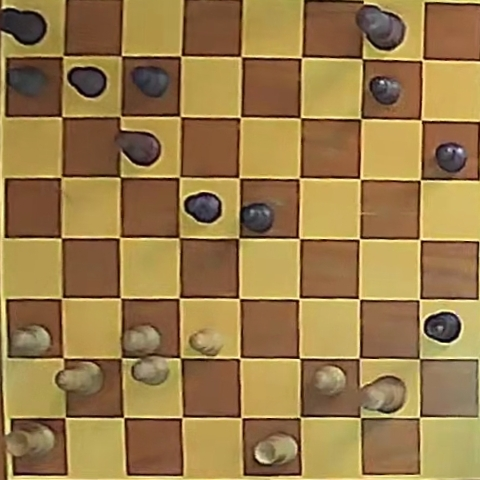black-bishop: (184, 192, 222, 224), (241, 203, 274, 233)
black-king: (355, 5, 404, 51)
black-knight: (116, 131, 160, 166)
black-pawn: (7, 66, 48, 98), (67, 66, 107, 98), (131, 65, 169, 98), (434, 142, 467, 172), (370, 76, 402, 105)
black-rook: (0, 7, 47, 47), (423, 312, 461, 344)
white-bishop: (57, 362, 103, 395)
white-king: (361, 376, 406, 413)
white-pawn: (10, 324, 52, 356), (122, 324, 161, 355), (132, 356, 170, 386), (314, 365, 346, 396), (190, 328, 224, 355)
white-rook: (6, 422, 56, 459), (254, 433, 298, 466)
